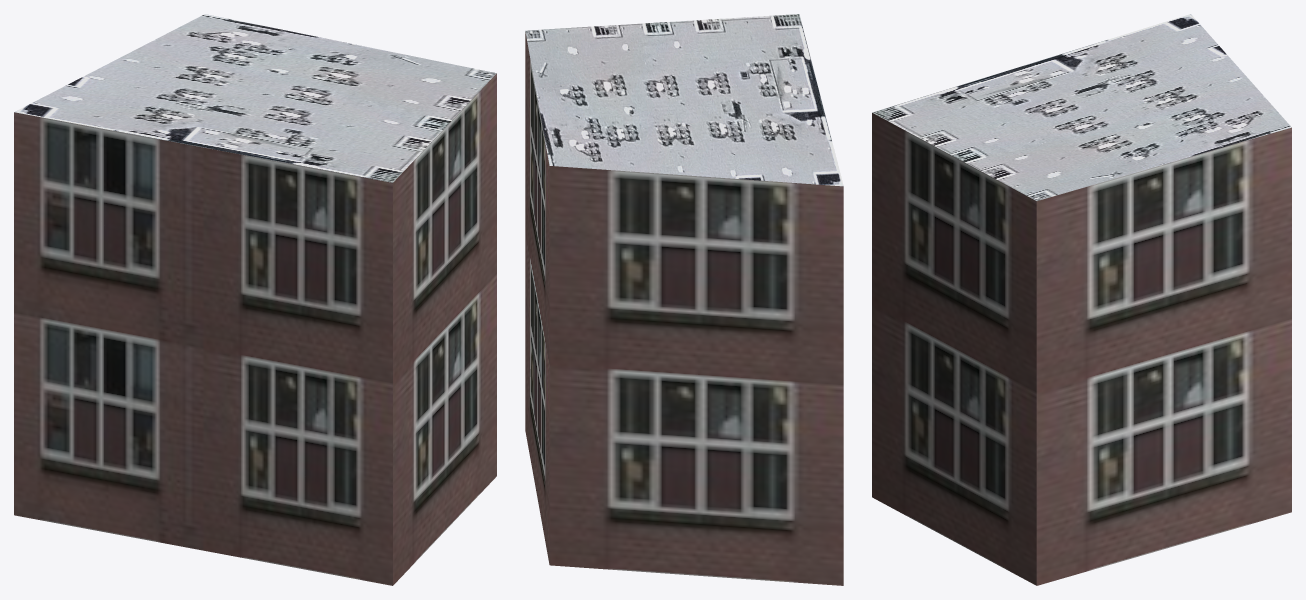
The model's file is ResTex__4533.fbx.
The picture shows the model from 3 angles, left to right: view 1: azimuth 30°, elevation 25°; view 2: azimuth 150°, elevation 25°; view 3: azimuth 270°, elevation 25°; orthographic projection. The views are drawn at different scales.
Visible parts, largest first — view 1: CityEngineMaterial_12_m, CityEngineMaterial_4_m; view 2: CityEngineMaterial_12_m, CityEngineMaterial_4_m; view 3: CityEngineMaterial_12_m, CityEngineMaterial_4_m.
Boxes of the visible parts, <box> form: CityEngineMaterial_12_m: <box>14,73,496,585</box>; CityEngineMaterial_4_m: <box>14,14,496,182</box>; CityEngineMaterial_12_m: <box>525,32,843,585</box>; CityEngineMaterial_4_m: <box>525,14,843,186</box>; CityEngineMaterial_12_m: <box>872,113,1291,585</box>; CityEngineMaterial_4_m: <box>872,14,1291,200</box>.
Bounding box in the file's own units: 6.26 × 6 × 5.94.
Materials: 2 (2 with a texture image).
